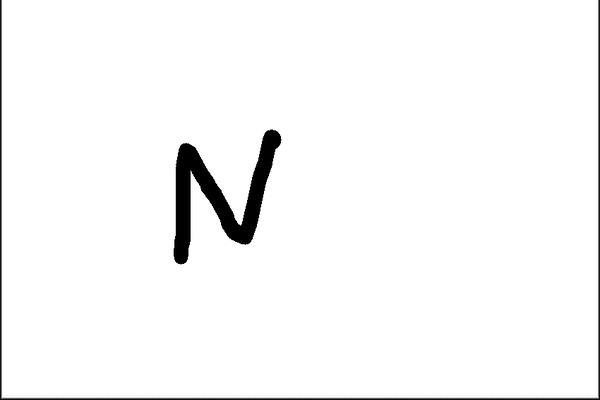N: (167, 123, 284, 266)
